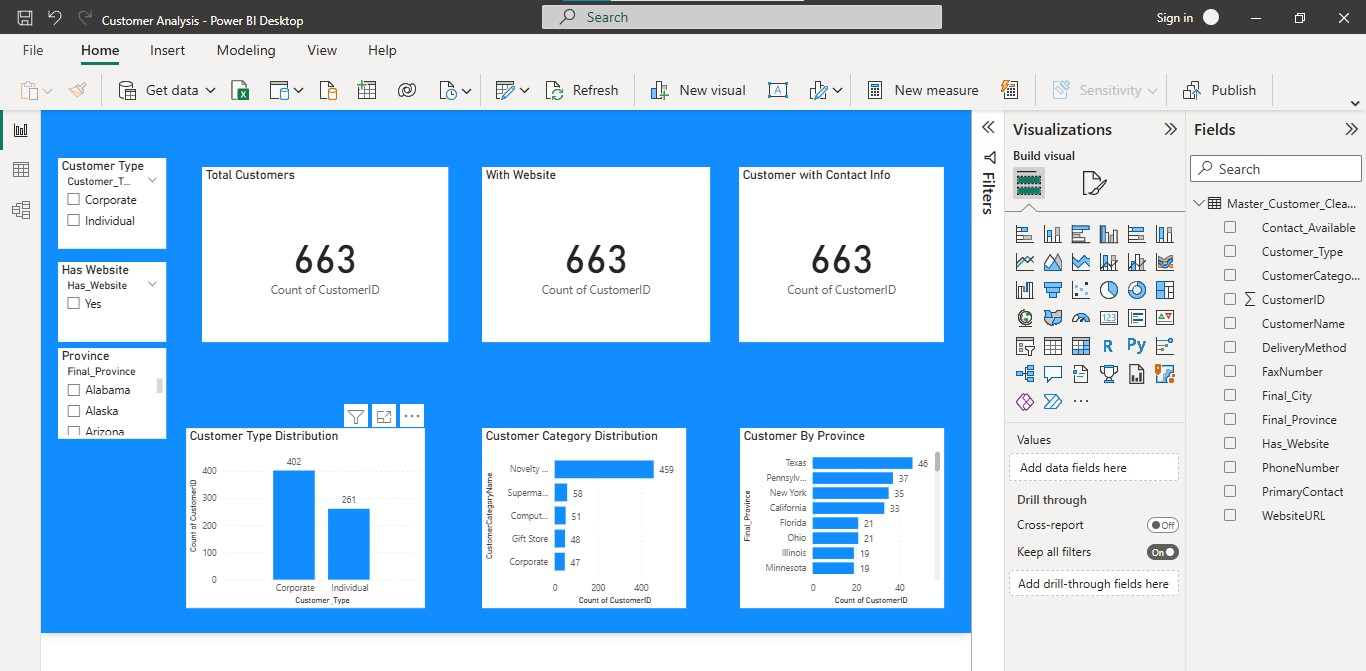

This screenshot's page, from the dashboard's own definition file:
{"tool":"powerbi","page":{"name":"Page 1","canvas":[1280,720],"ordinal":0},"visuals":[{"type":"card","title":"Total Customers","fields":{"Values":["CountNonNull(Master_Customer_CleanedData.CustomerID)"]},"box":[221.6,78.5,338.6,240.9],"z":1000},{"type":"card","title":"With Website","fields":{"Values":["Count(Master_Customer_CleanedData.CustomerID)"]},"box":[607,78.5,313.8,240.9],"z":2000},{"type":"card","title":"Customer with Contact Info","fields":{"Values":["CountNonNull(Master_Customer_CleanedData.CustomerID)"]},"box":[960.7,78.5,282.2,240.9],"z":3000},{"type":"clusteredColumnChart","title":"Customer Type Distribution","fields":{"Category":["Master_Customer_CleanedData.Customer_Type"],"Y":["CountNonNull(Master_Customer_CleanedData.CustomerID)"]},"box":[199.6,437.7,328.9,247.7],"z":4000},{"type":"clusteredBarChart","title":"Customer Category Distribution","fields":{"Category":["Master_Customer_CleanedData.CustomerCategoryName"],"Y":["CountNonNull(Master_Customer_CleanedData.CustomerID)"]},"box":[607,437.7,280.8,247.7],"z":5000},{"type":"clusteredBarChart","title":"Customer By Province","fields":{"Category":["Master_Customer_CleanedData.Final_Province"],"Y":["CountNonNull(Master_Customer_CleanedData.CustomerID)"]},"box":[962.1,437.7,280.8,247.7],"z":6000},{"type":"slicer","title":"Customer Type","fields":{"Values":["Master_Customer_CleanedData.Customer_Type"]},"box":[23.4,66.1,148.6,125.2],"z":7000},{"type":"slicer","title":"Province","fields":{"Values":["Master_Customer_CleanedData.Final_Province"]},"box":[23.4,327.6,148.6,125.2],"z":8000},{"type":"slicer","title":"Has Website","fields":{"Values":["Master_Customer_CleanedData.Has_Website"]},"box":[23.4,209.2,148.6,110.1],"z":9000}]}

Visuals, with their boxes on the page's 1280x720 design canvas (x1, y1, x2, y2). These are canvas units, not pixel positions in the 1366x671 screenshot, which may show the page scaled, cropped or inside an application window:
"Total Customers" card: 222/78/560/319
"With Website" card: 607/78/921/319
"Customer with Contact Info" card: 961/78/1243/319
"Customer Type Distribution" clusteredColumnChart: 200/438/528/685
"Customer Category Distribution" clusteredBarChart: 607/438/888/685
"Customer By Province" clusteredBarChart: 962/438/1243/685
"Customer Type" slicer: 23/66/172/191
"Province" slicer: 23/328/172/453
"Has Website" slicer: 23/209/172/319
